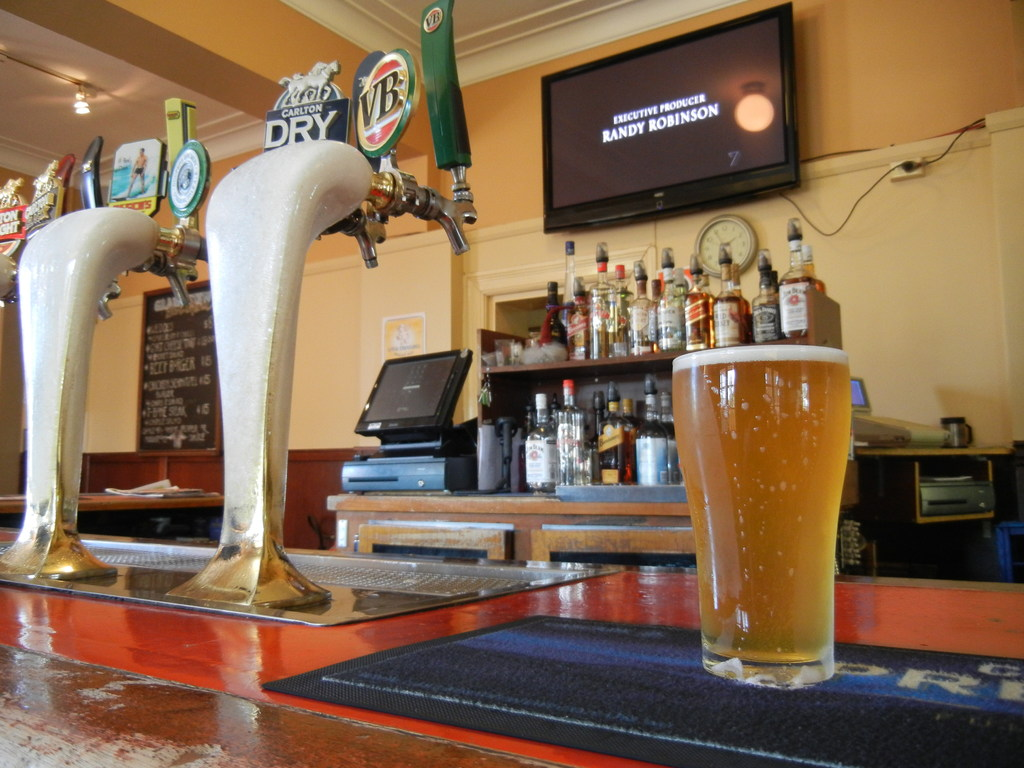Beer: (675, 343, 851, 665)
